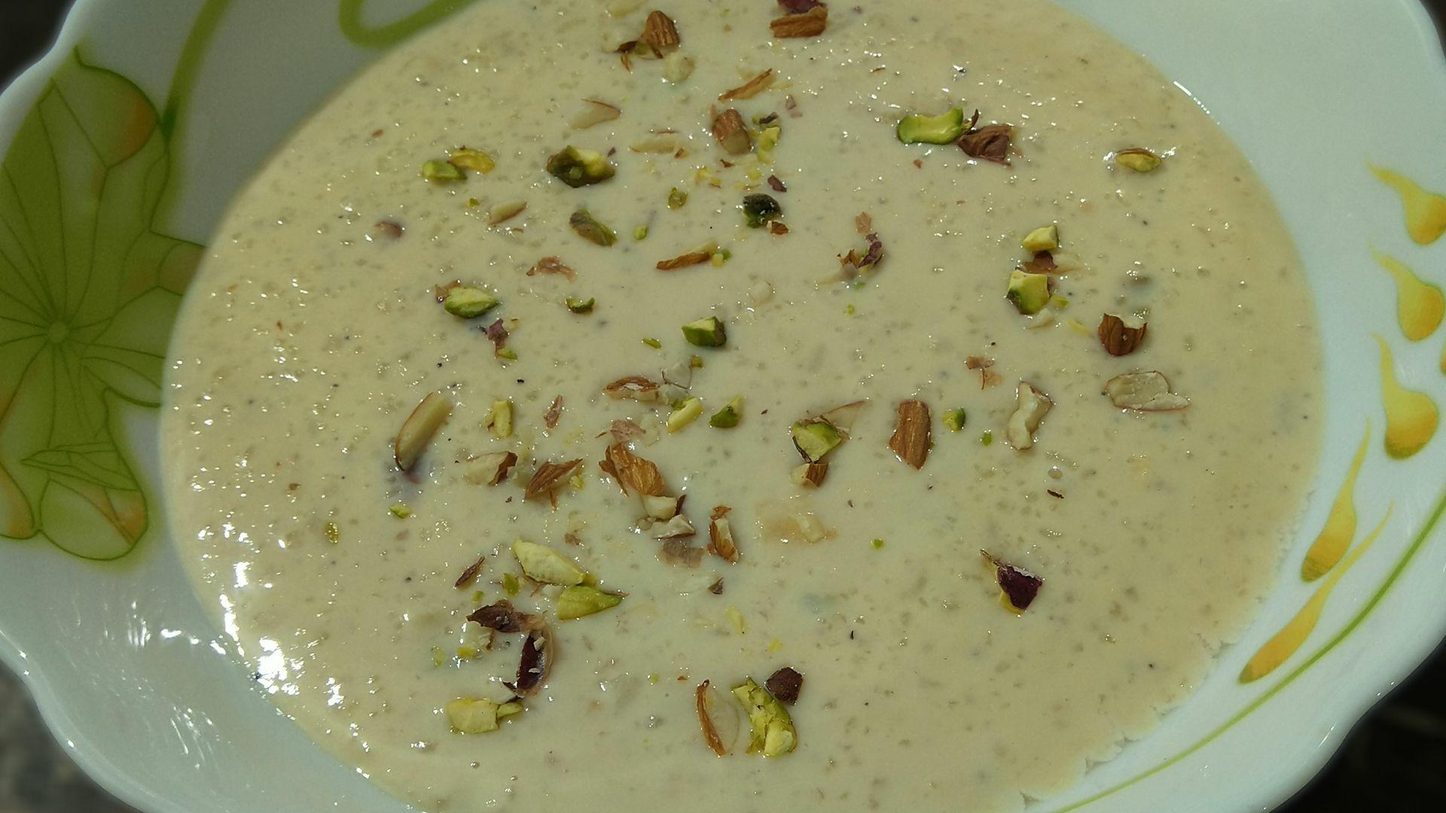Kheer: (158, 0, 1327, 810)
